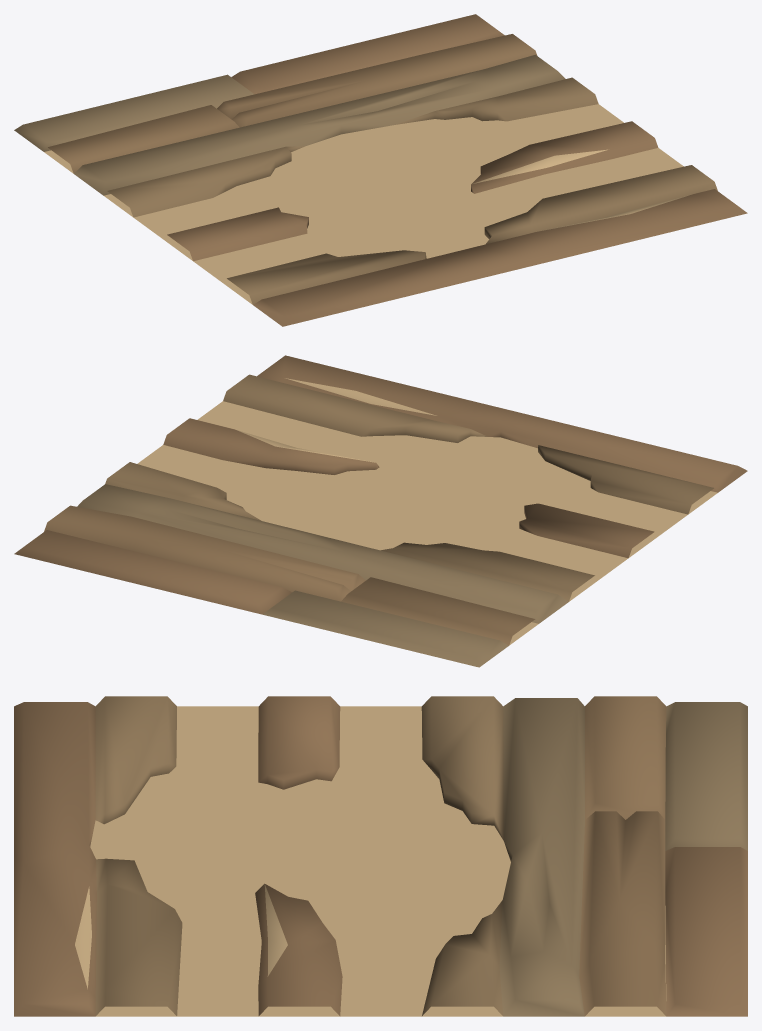
File: rpgpp_av_floor_02e_3x3.gltf
3 views of the same model, one above another, from view 1: azimuth 30°, elevation 25°; view 2: azimuth 150°, elevation 25°; view 3: azimuth 270°, elevation 25° (orthographic). The views are drawn at different scales.
Visible parts, largest first — view 1: rpgpp_av_floor_02e_3x3; view 2: rpgpp_av_floor_02e_3x3; view 3: rpgpp_av_floor_02e_3x3.
Boxes of the visible parts, x1,y1,x2,y2 form: rpgpp_av_floor_02e_3x3: (14, 14, 747, 326); rpgpp_av_floor_02e_3x3: (14, 355, 747, 667); rpgpp_av_floor_02e_3x3: (14, 696, 747, 1016).
Size of the model in its own units: 0.03 by 0.000584 by 0.03.
Materials: 1 (1 with a texture image).
